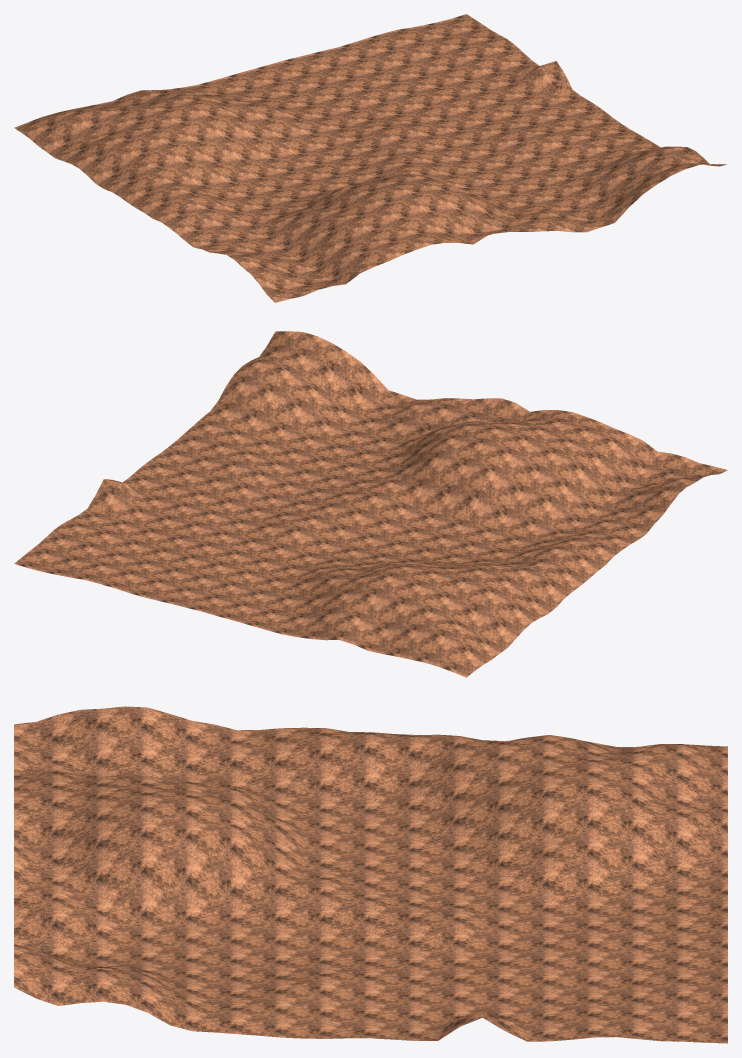
File: terrain_06_01.dae
3 views of the same model, one above another, from view 1: azimuth 30°, elevation 25°; view 2: azimuth 150°, elevation 25°; view 3: azimuth 270°, elevation 25° (orthographic). The views are drawn at different scales.
Visible parts, largest first — view 1: terrain_06_01-node; view 2: terrain_06_01-node; view 3: terrain_06_01-node.
Part boxes in pixels (bbox=[...]): terrain_06_01-node: bbox=[14, 14, 726, 302]; terrain_06_01-node: bbox=[14, 331, 727, 677]; terrain_06_01-node: bbox=[14, 706, 727, 1043].
Bounding box in the file's own units: 128 × 128 × 14.19.
1 material, 1 textured.
